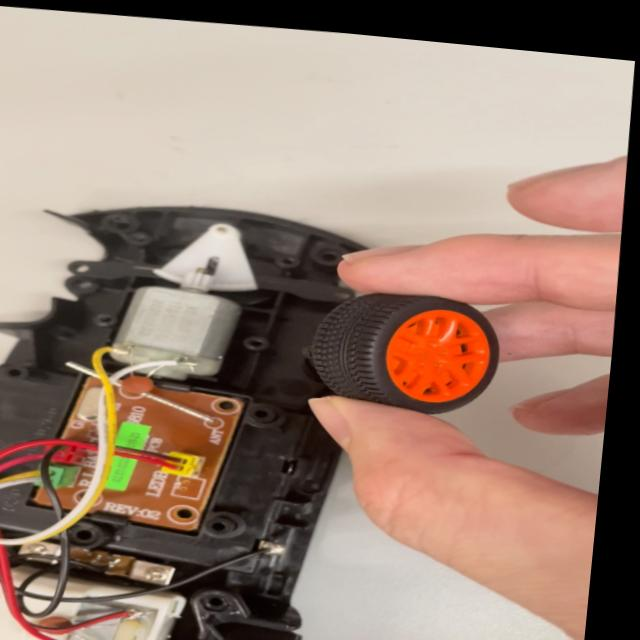motor: (103, 258, 248, 392)
wheel: (310, 276, 501, 425)
